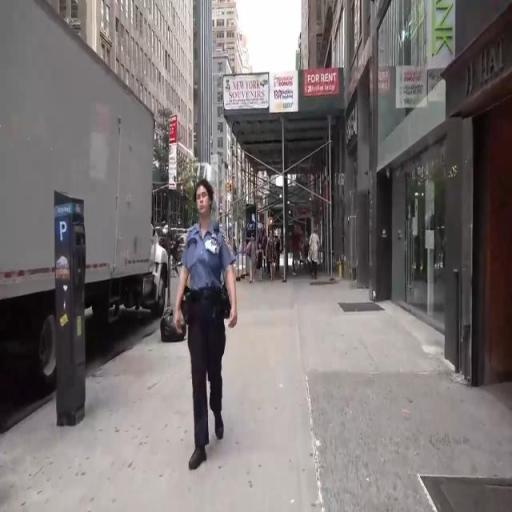person: (180, 176, 238, 460), (310, 227, 327, 290), (268, 231, 283, 288), (292, 236, 304, 283), (250, 237, 260, 286), (256, 239, 266, 278), (262, 216, 266, 241)
